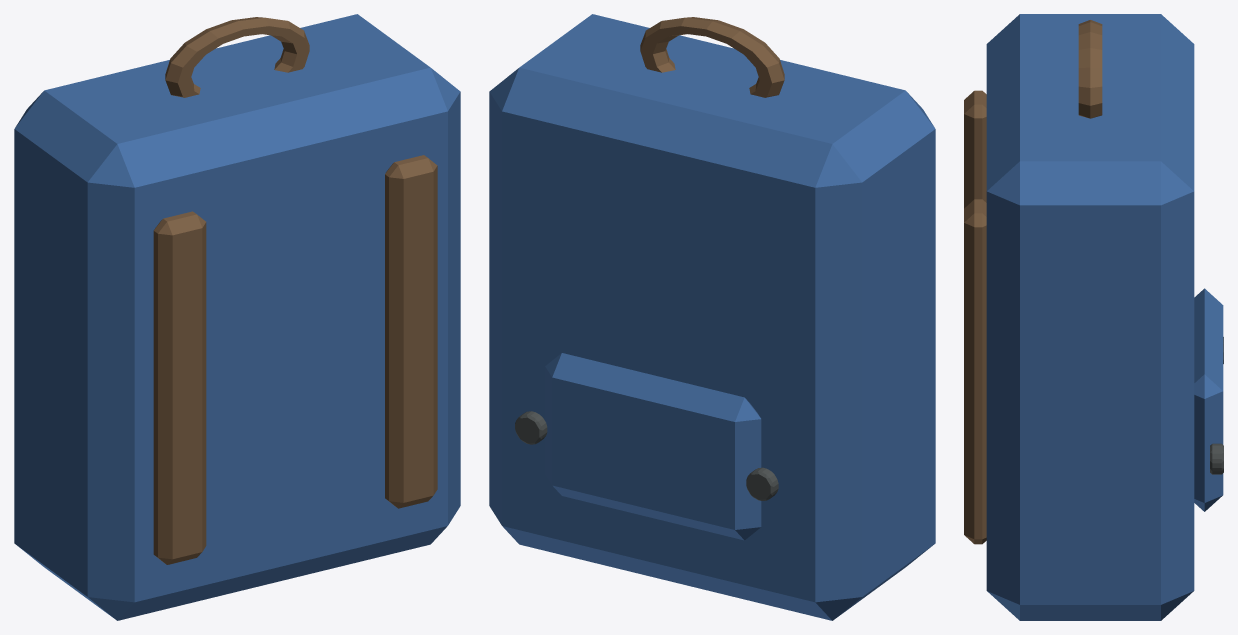
File: item_school_bag.glb
The picture shows the model from 3 angles, left to right: view 1: azimuth 30°, elevation 25°; view 2: azimuth 150°, elevation 25°; view 3: azimuth 270°, elevation 25°; orthographic projection. The views are drawn at different scales.
Visible parts, largest first — view 1: item_school_bag; view 2: item_school_bag; view 3: item_school_bag.
Boxes of the visible parts, box(x1,y1,x2,y2) form: item_school_bag: box(14, 14, 460, 620); item_school_bag: box(489, 14, 935, 620); item_school_bag: box(964, 14, 1223, 620).
Size of the model in its own units: 0.36 by 0.4933 by 0.2255.
